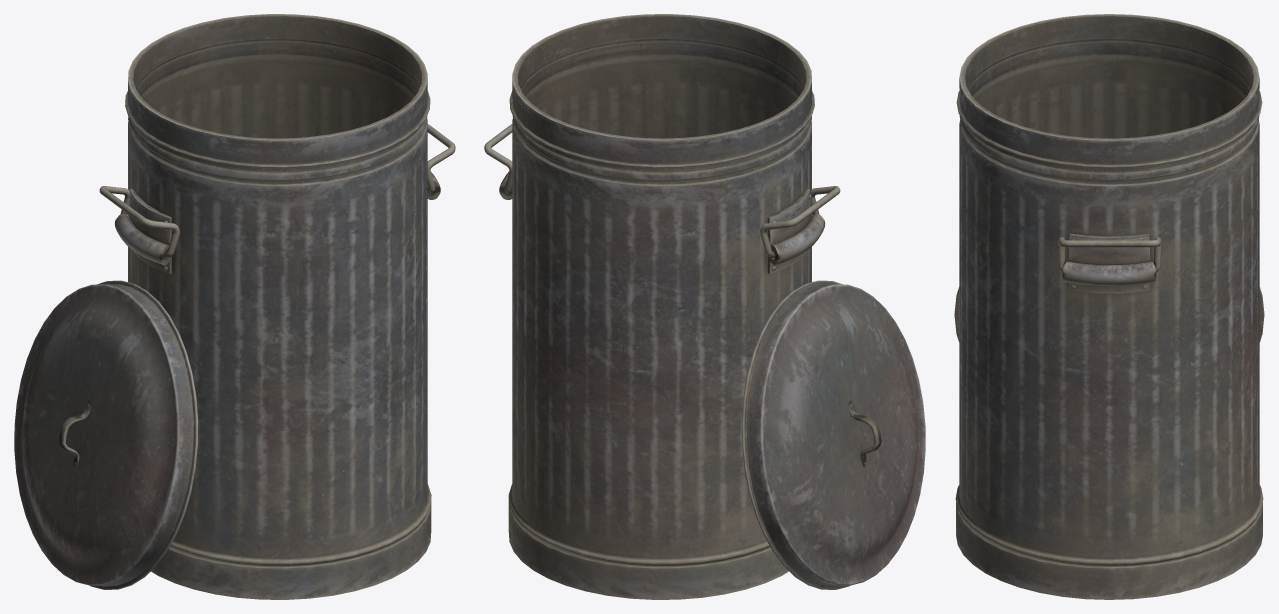
File: metal_trash_can_clean.glb
3 views of the same model, side by side, from view 1: azimuth 30°, elevation 25°; view 2: azimuth 150°, elevation 25°; view 3: azimuth 270°, elevation 25° (orthographic).
Parts seen in each view (by area): view 1: metal_trash_can, metal_trash_can_lid, metal_trash_can_handle_left, metal_trash_can_handle_right; view 2: metal_trash_can, metal_trash_can_lid, metal_trash_can_handle_left, metal_trash_can_handle_right; view 3: metal_trash_can, metal_trash_can_handle_right, metal_trash_can_lid.
Boxes of the visible parts, box(x1,y1,x2,y2) form: metal_trash_can: box(115, 14, 440, 599); metal_trash_can_lid: box(14, 280, 198, 589); metal_trash_can_handle_left: box(99, 186, 179, 257); metal_trash_can_handle_right: box(427, 124, 455, 193); metal_trash_can: box(499, 14, 825, 599); metal_trash_can_lid: box(741, 280, 925, 589); metal_trash_can_handle_left: box(760, 186, 840, 258); metal_trash_can_handle_right: box(484, 124, 512, 193); metal_trash_can: box(955, 14, 1263, 599); metal_trash_can_handle_right: box(1058, 237, 1161, 272); metal_trash_can_lid: box(954, 287, 1264, 342).
Bounding box in the file's own units: 0.778 × 0.9062 × 0.5563.
1 material, 1 textured.
